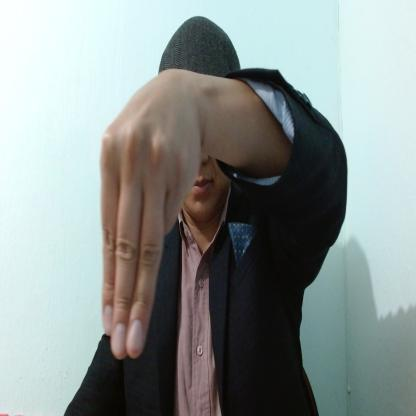M: (101, 70, 194, 362)
